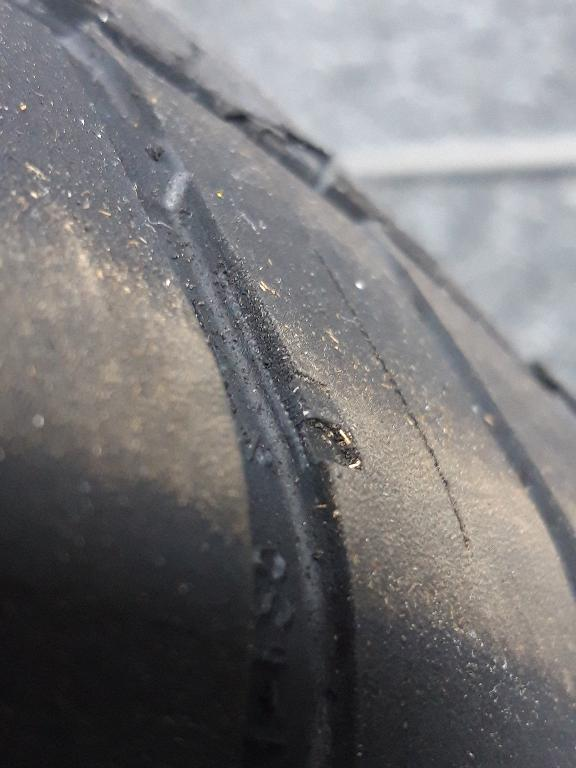temoin:25: (268, 356, 382, 488)
